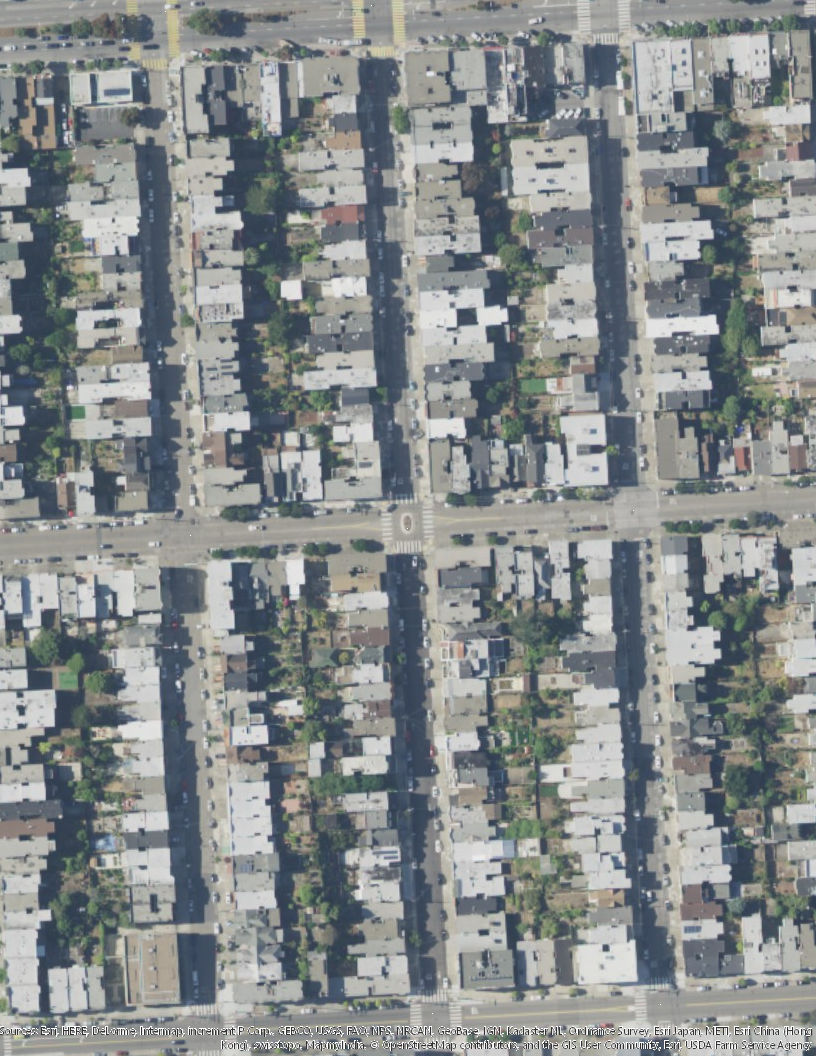zebracross: (125, 1, 141, 60), (166, 1, 182, 59), (389, 1, 406, 45), (351, 1, 366, 44), (576, 1, 594, 33), (617, 1, 632, 35), (422, 502, 435, 539), (382, 505, 394, 542), (633, 993, 647, 1024), (418, 989, 448, 1002), (394, 541, 422, 554), (647, 977, 675, 990), (449, 1001, 463, 1027), (409, 1000, 422, 1026), (368, 46, 396, 58), (141, 58, 168, 70), (594, 33, 618, 45), (190, 1004, 216, 1015), (393, 493, 420, 503), (2, 1036, 13, 1056)
